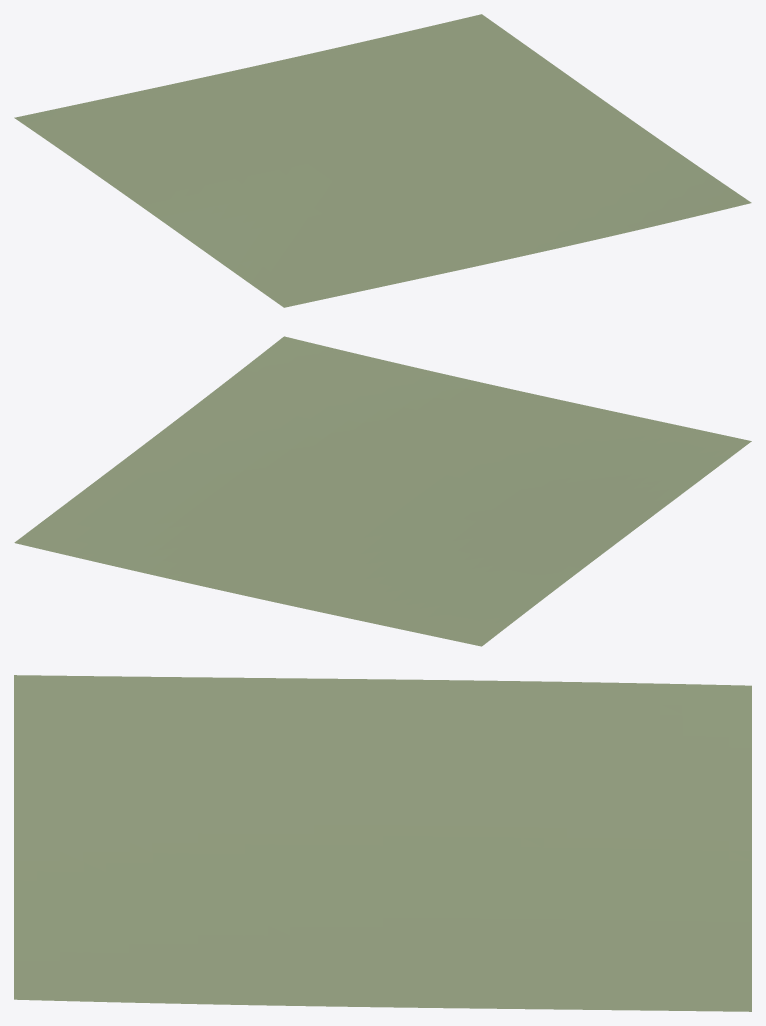
File: expanse-0-9.glb
3 renders of one model, top to bottom at view 1: azimuth 30°, elevation 25°; view 2: azimuth 150°, elevation 25°; view 3: azimuth 270°, elevation 25°, orthographic. The views are drawn at different scales.
Visible parts, largest first — view 1: expanse-0-9; view 2: expanse-0-9; view 3: expanse-0-9.
Boxes of the visible parts, x1,y1,x2,y2 form: expanse-0-9: (14,14,751,307); expanse-0-9: (14,336,751,646); expanse-0-9: (14,675,751,1011).
Bounding box in the file's own units: 256 × 9.51 × 256.
